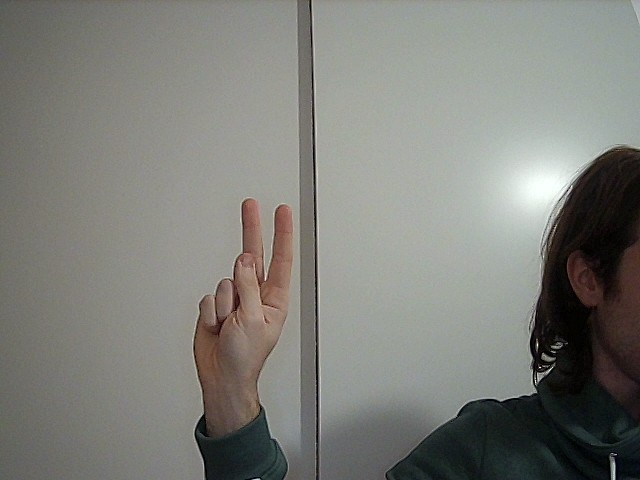k: (179, 187, 302, 383)
